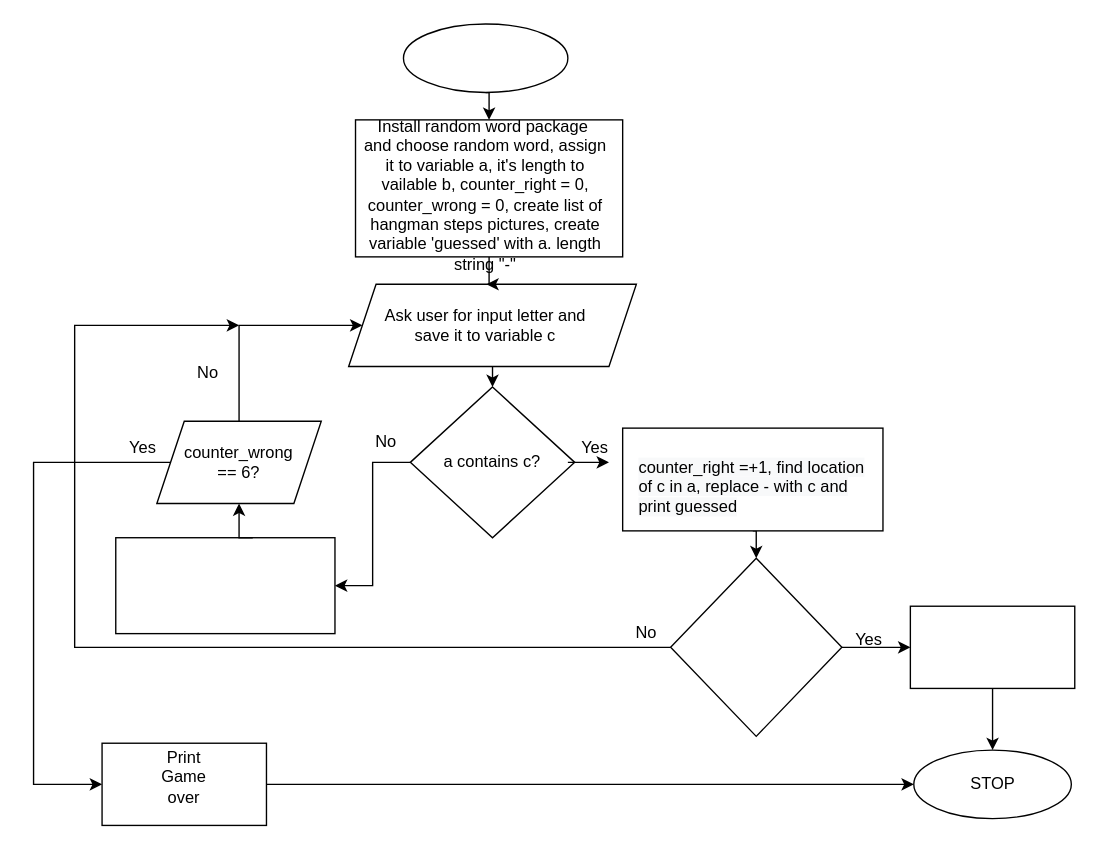
Image size: 1099x849. Some labels were removed from this diagram. Each missing label, with the centre of its shape:
counter_right == a.length-1?: (755,646)
counter_wrong =+1, draw hangman picture nr counter_wrong -1: (224,585)
Print a, print "You win": (992,646)
START: (485,57)
